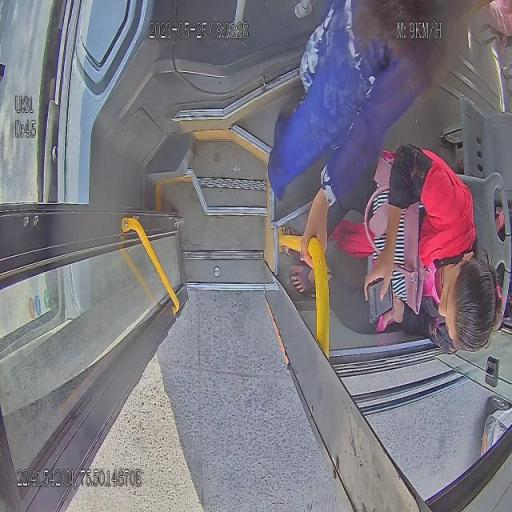persona: (268, 0, 470, 267), (287, 142, 505, 357)
